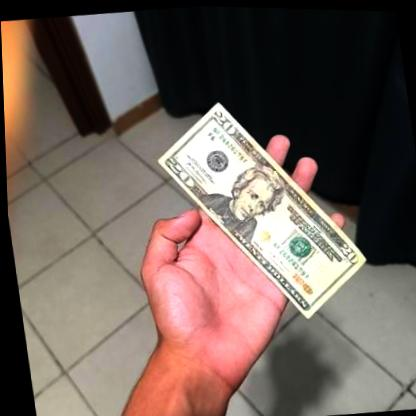twenty-front: (148, 84, 374, 333)
